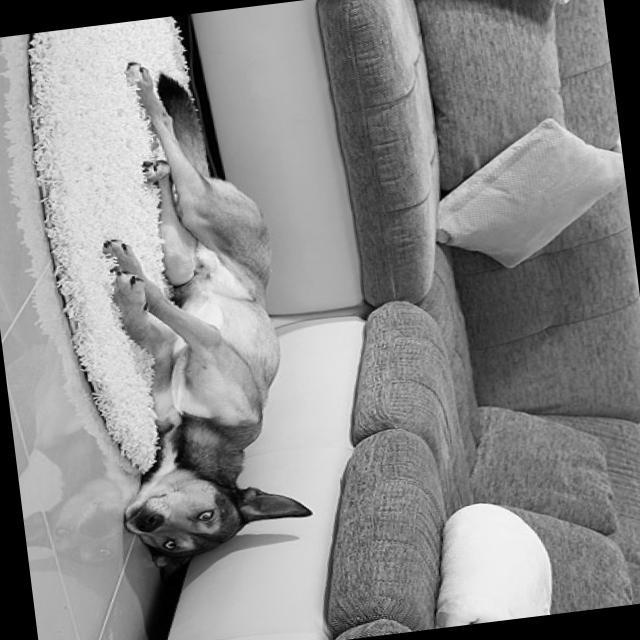laying down: (64, 43, 322, 585)
